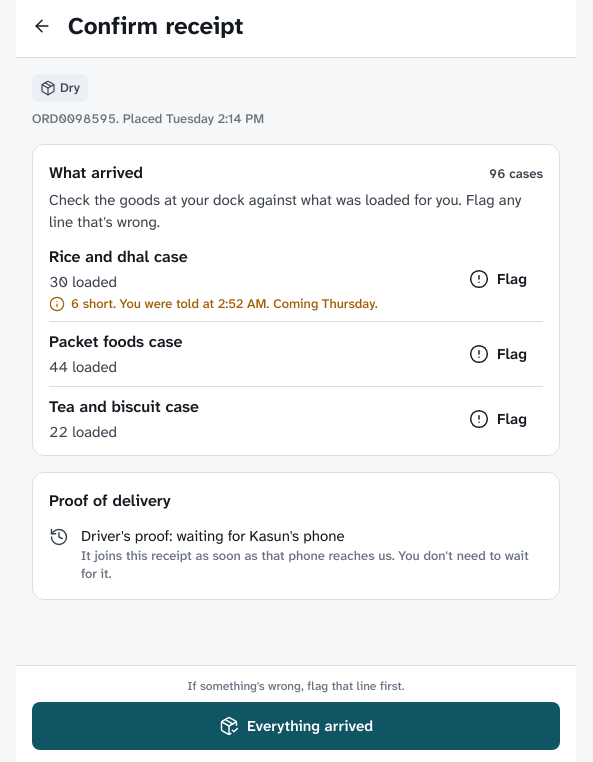
Test: Confirm receipt › after Everything arrived, offers a quiet Report a problem below what is still to come
What coordinates should you click on to do the following:
click the button "Everything arrived"
I would click on:
 (296, 726)
Its box is [32,702,560,750].
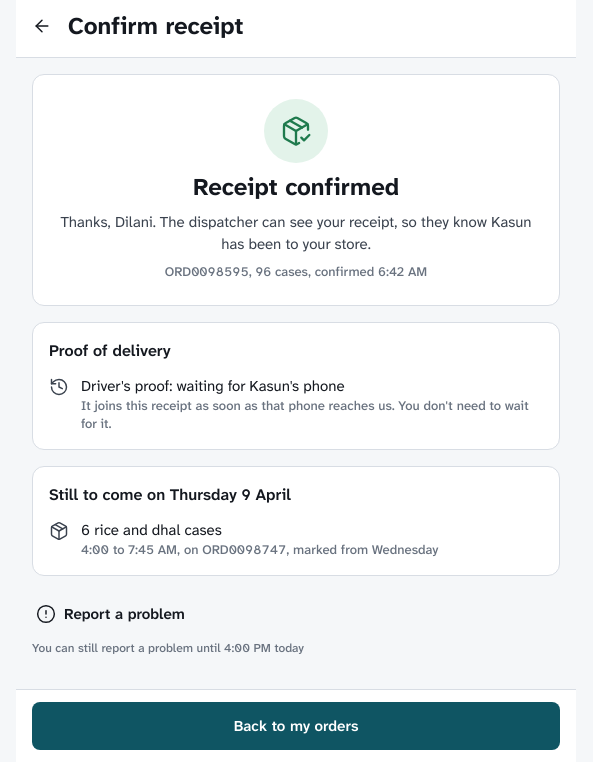
Expected: the heading "Receipt confirmed" is shown, [193,171,399,203]
Expected: the text "You can still report a problem until 4:00 PM today" is shown, [32,640,304,656]
